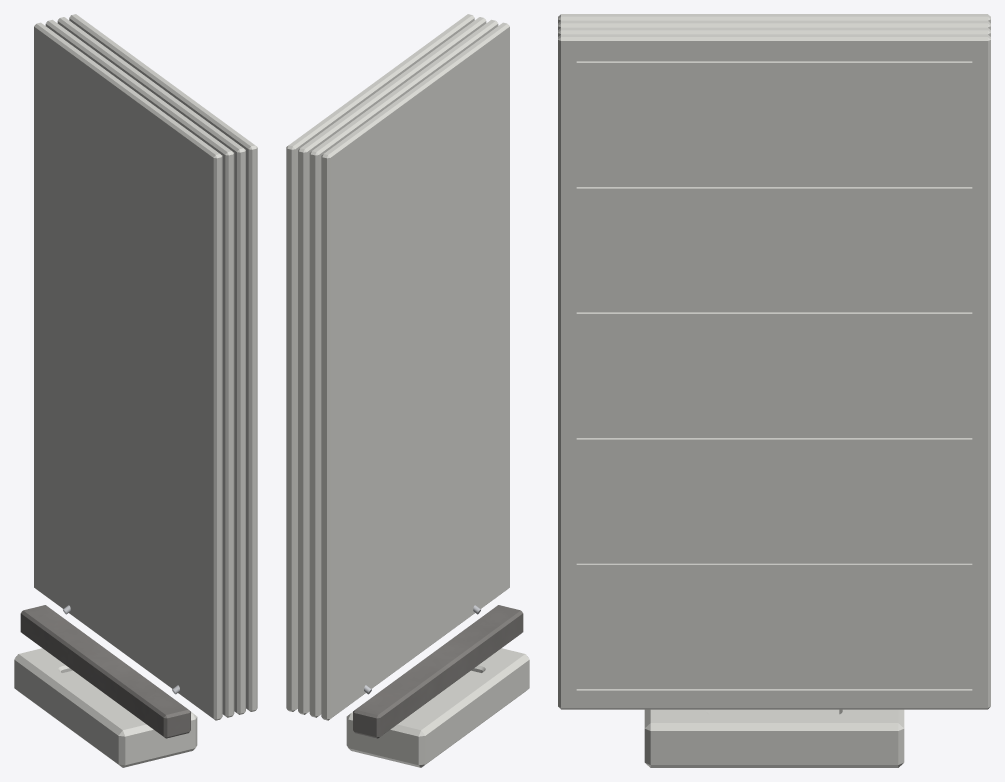
File: ax_power_05_deployable_radiator_l.glb
The picture shows the model from 3 angles, left to right: view 1: azimuth 30°, elevation 25°; view 2: azimuth 150°, elevation 25°; view 3: azimuth 270°, elevation 25°; orthographic projection. The views are drawn at different scales.
Visible parts, largest first — view 1: panel_1, panel_2, panel_3, panel_4, mount_block, hinge_base; view 2: panel_1, panel_2, panel_3, panel_4, mount_block, hinge_base; view 3: panel_4, mount_block, panel_2, panel_3, panel_1.
Boxes of the visible parts, box(x1,y1,x2,y2) form: panel_1: box(34, 22, 222, 720); panel_2: box(45, 19, 234, 717); panel_3: box(57, 17, 245, 714); panel_4: box(69, 14, 257, 711); mount_block: box(14, 648, 197, 767); hinge_base: box(20, 605, 190, 738); panel_1: box(321, 22, 509, 720); panel_2: box(309, 19, 498, 717); panel_3: box(298, 17, 486, 714); panel_4: box(286, 14, 474, 711); mount_block: box(346, 648, 529, 767); hinge_base: box(353, 605, 523, 738); panel_4: box(558, 34, 990, 709); mount_block: box(644, 709, 904, 767); panel_2: box(558, 20, 990, 29); panel_3: box(558, 27, 990, 36); panel_1: box(558, 14, 990, 23).
Bounding box in the file's own units: 0.451 × 2.66 × 1.4.
3 materials, 2 textured.
